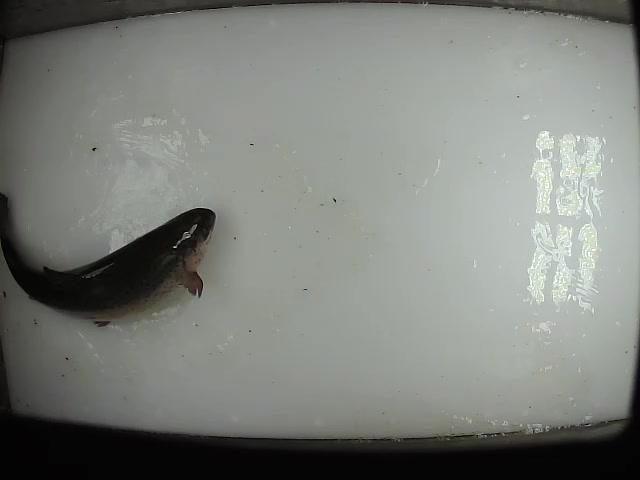fish: (1, 186, 217, 330)
